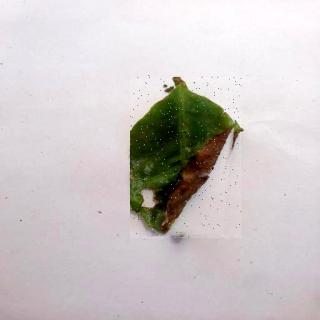Algal Leaf: (132, 78, 244, 239)
